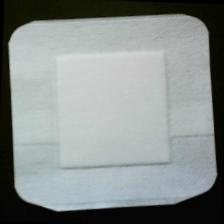Dressing: (2, 8, 224, 220)
